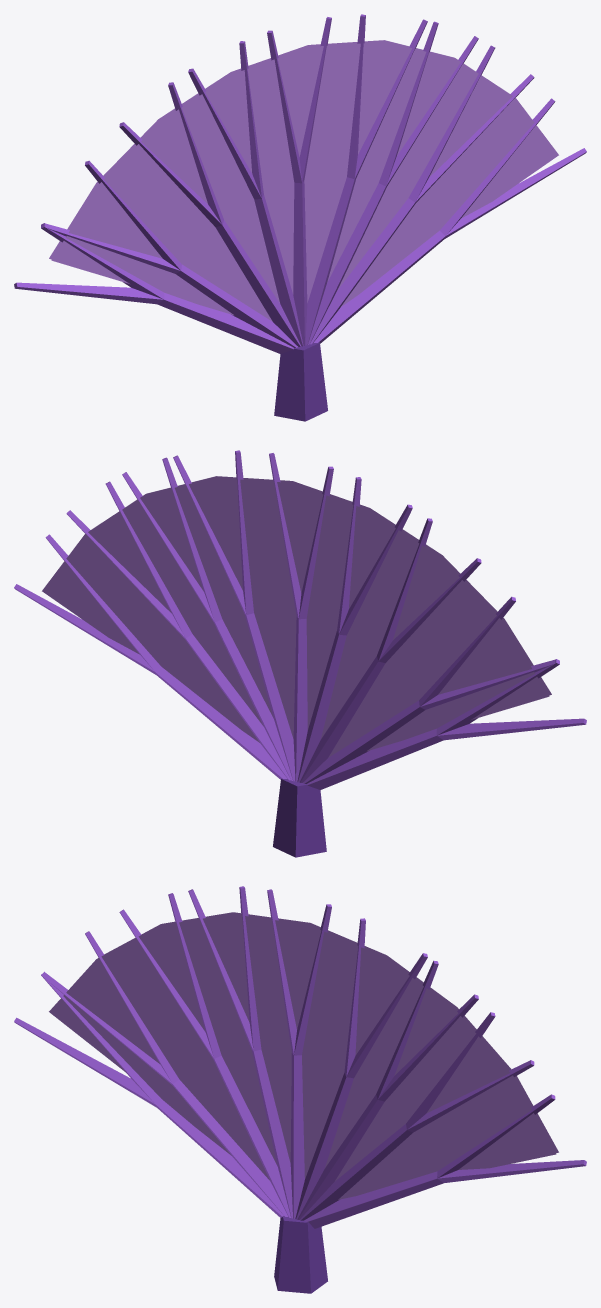
Rendered from coral_fan.glb.
3 views of the same model, one above another, from view 1: azimuth 30°, elevation 25°; view 2: azimuth 150°, elevation 25°; view 3: azimuth 330°, elevation 25° (orthographic).
Visible parts, largest first — view 1: coral_fan; view 2: coral_fan; view 3: coral_fan.
Part boxes in pixels (box(x1,y1,x2,y2)): coral_fan: box(14, 14, 586, 421); coral_fan: box(14, 450, 586, 857); coral_fan: box(14, 886, 586, 1293).
Size of the model in its own units: 1.59 by 1.02 by 0.1332.
